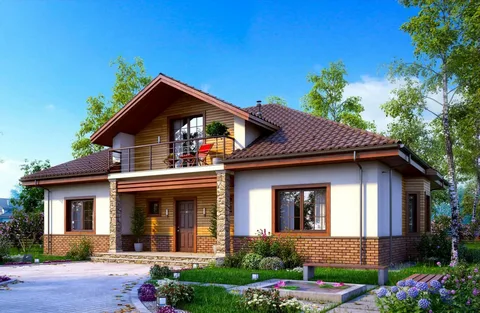private_hause: (48, 103, 424, 268)
